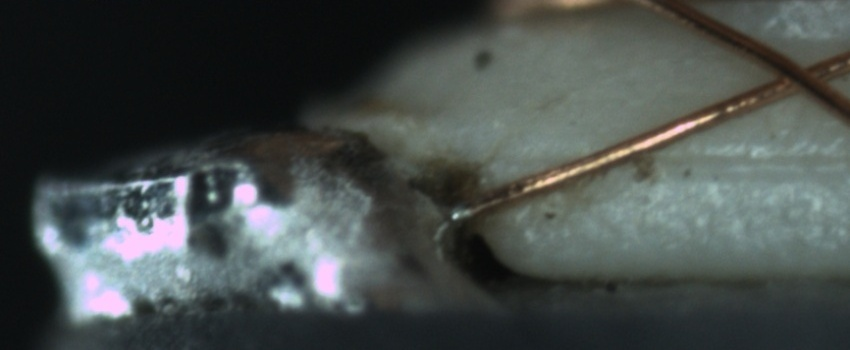CL: (750, 42, 843, 104)
DL: (617, 127, 843, 202)
